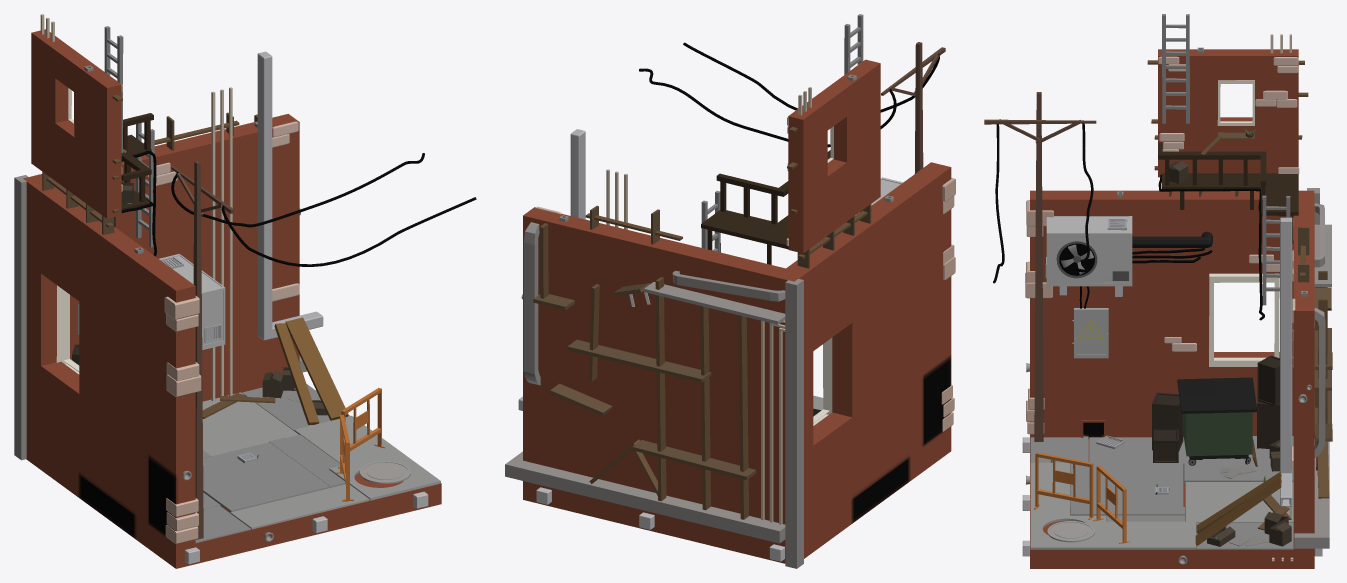
File: Callejon3D_texturizado.fbx
The picture shows the model from 3 angles, left to right: view 1: azimuth 30°, elevation 25°; view 2: azimuth 150°, elevation 25°; view 3: azimuth 270°, elevation 25°; orthographic projection. The views are drawn at different scales.
Visible parts, largest first — view 1: Habitacion_01.001, ParedBalcon_01.001, CuadradoSuelo_01.001, TuberiaGrande_01.001, VigaEsquina_01.001, CuadradoSuelo_06.001, TuberiaSet3_01.001, PosteElectrico_01, CuadradoSuelo_10.001, CuadradoSuelo_04.001, TablaMadera_04.001, AireAcondicionado_01 (+16 smaller); view 2: Habitacion_01.001, ParedBalcon_01.001, VigaPlataforma_01.001, VigaEsquina_01.001, TuberiaSet3_02.001, TuberiaPlataforma_01.002, SueloBalcon_01.001, VigaPlataforma_07.004, VigaPlataforma_05.001, VigaPlataforma_07.001, TablonPared_01.009, VigaPlataforma_07.003 (+13 smaller); view 3: Habitacion_01.001, ParedBalcon_01.001, Contenedor_01.001, AireAcondicionado_01, CuadradoSuelo_01.001, TuberiaGrande_01.001, PosteElectrico_01, CuadradoSuelo_06.001, SueloBalcon_01.001, CuadradoSuelo_04.001, CuadradoSuelo_07.001, ContornoVentanaBalcon_001 (+31 smaller).
Part boxes in pixels (x1,y1,x2,y2): Habitacion_01.001: (23, 114, 441, 568); ParedBalcon_01.001: (31, 29, 121, 218); CuadradoSuelo_01.001: (203, 442, 330, 512); TuberiaGrande_01.001: (257, 51, 323, 340); VigaEsquina_01.001: (14, 175, 28, 460); CuadradoSuelo_06.001: (202, 392, 298, 456); TuberiaSet3_01.001: (211, 87, 232, 401); PosteElectrico_01: (171, 161, 234, 539); CuadradoSuelo_10.001: (230, 484, 369, 529); CuadradoSuelo_04.001: (294, 415, 399, 463); TablaMadera_04.001: (285, 317, 348, 420); AireAcondicionado_01: (159, 254, 225, 349); Habitacion_01.001: (523, 162, 951, 563); ParedBalcon_01.001: (788, 59, 880, 253); VigaPlataforma_01.001: (505, 451, 785, 543); VigaEsquina_01.001: (785, 278, 803, 568); TuberiaSet3_02.001: (761, 320, 785, 524); TuberiaPlataforma_01.002: (523, 222, 540, 385); SueloBalcon_01.001: (701, 210, 788, 249); VigaPlataforma_07.004: (655, 277, 666, 501); VigaPlataforma_05.001: (644, 282, 785, 324); VigaPlataforma_07.001: (738, 315, 748, 519); TablonPared_01.009: (567, 339, 711, 382); VigaPlataforma_07.003: (700, 306, 710, 510); Habitacion_01.001: (1030, 190, 1314, 568); ParedBalcon_01.001: (1158, 49, 1298, 177); Contenedor_01.001: (1177, 377, 1256, 465); AireAcondicionado_01: (1046, 216, 1132, 286); CuadradoSuelo_01.001: (1070, 462, 1183, 508); TuberiaGrande_01.001: (1280, 217, 1292, 506); PosteElectrico_01: (984, 92, 1096, 441); CuadradoSuelo_06.001: (1185, 482, 1293, 522); SueloBalcon_01.001: (1162, 173, 1298, 215); CuadradoSuelo_04.001: (1106, 521, 1196, 549); CuadradoSuelo_07.001: (1184, 436, 1293, 483); ContornoVentanaBalcon_001: (1209, 273, 1279, 366).
Bounding box in the file's own units: 1870 × 2955 × 2114.
